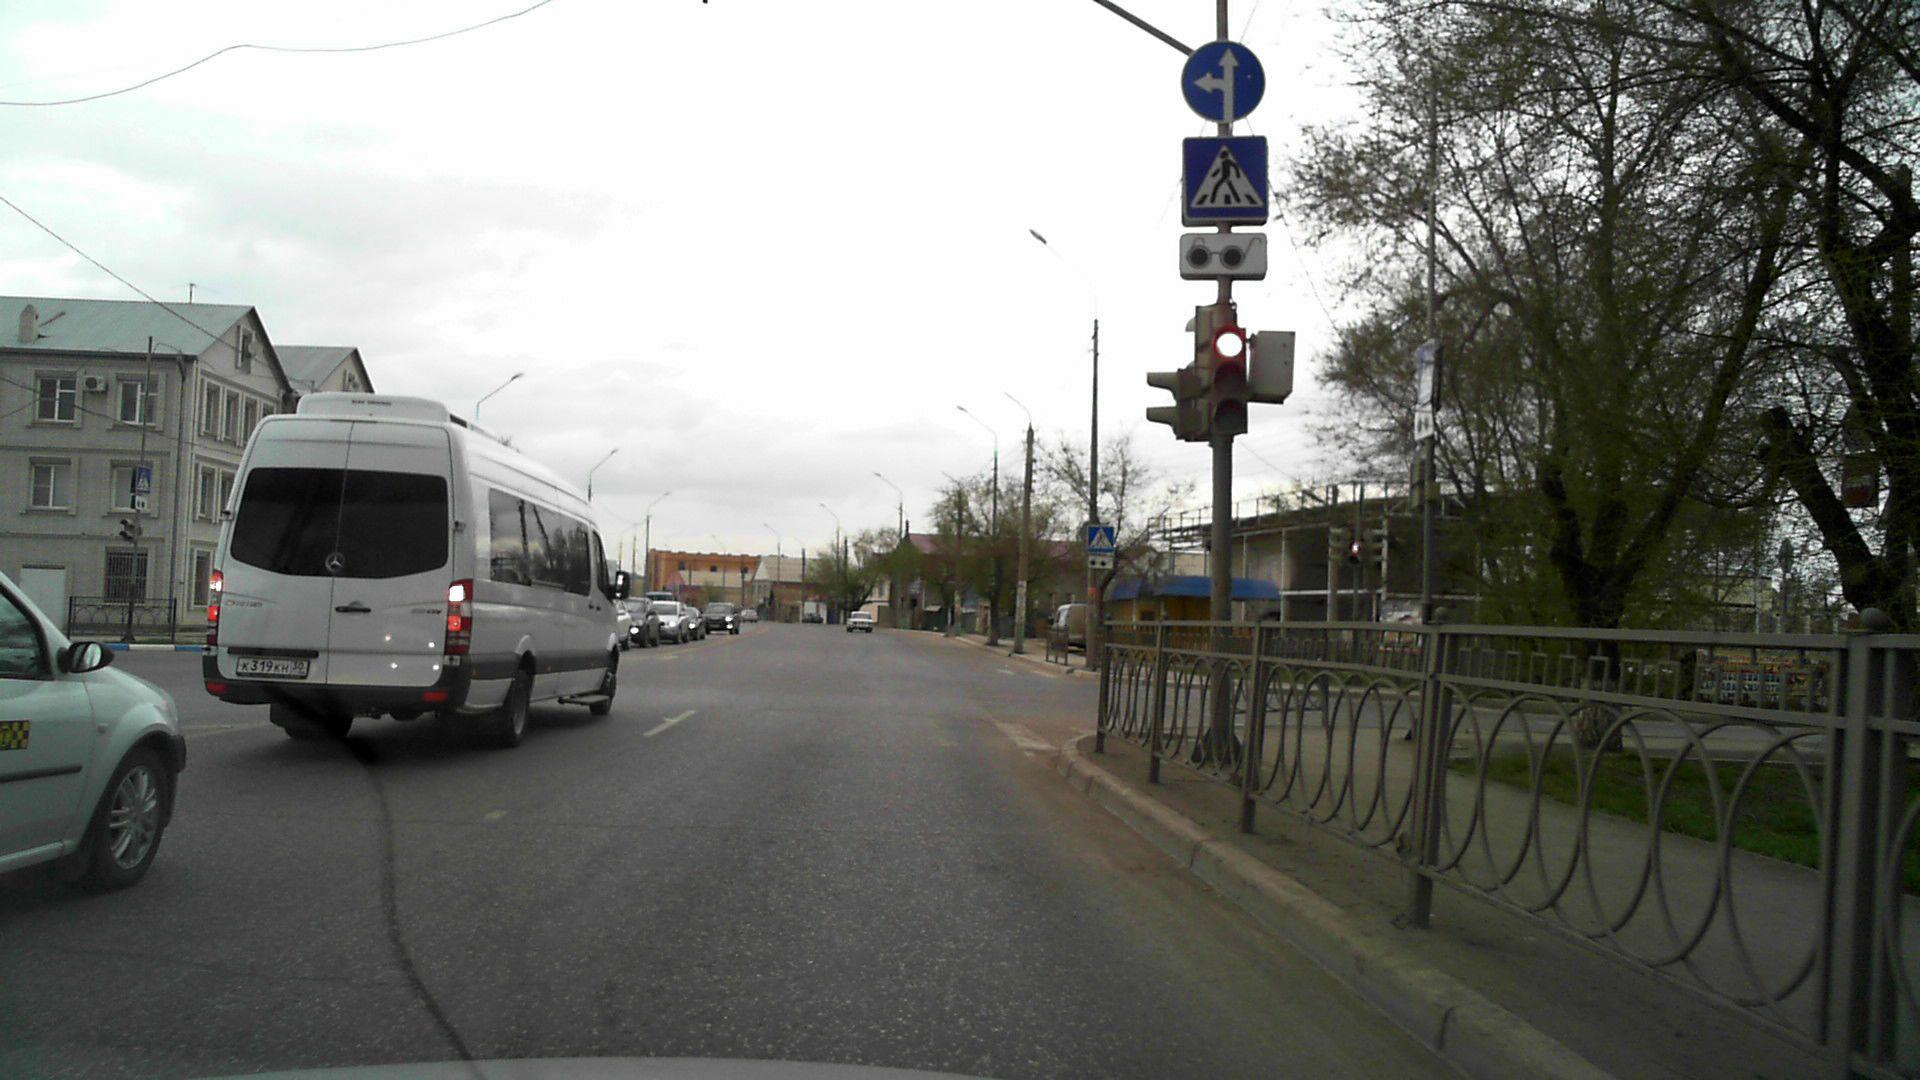4_1_5: (1183, 37, 1265, 123)
5_19_1: (1182, 137, 1269, 224), (1085, 525, 1117, 554), (136, 465, 152, 493)
5_19_2: (1412, 344, 1439, 406)
8_15: (1178, 229, 1271, 278), (1412, 409, 1433, 434), (1087, 554, 1114, 570), (133, 493, 149, 514)
